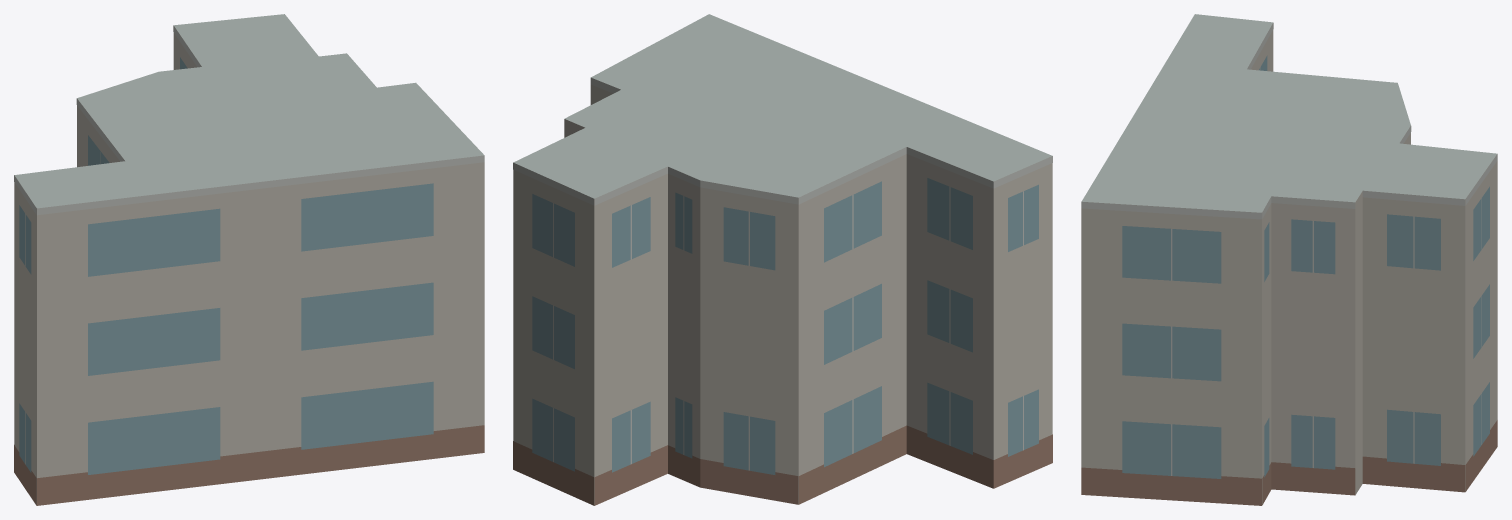
Rendered from survey-upis-32754201.glb.
3 renders of one model, left to right at view 1: azimuth 30°, elevation 25°; view 2: azimuth 150°, elevation 25°; view 3: azimuth 270°, elevation 25°, orthographic. The views are drawn at different scales.
Parts seen in each view (by area): view 1: survey-upis-32754201.tmp; view 2: survey-upis-32754201.tmp; view 3: survey-upis-32754201.tmp.
Boxes of the visible parts, x1=… form: survey-upis-32754201.tmp: x1=14, y1=14, x2=484, y2=505; survey-upis-32754201.tmp: x1=513, y1=14, x2=1052, y2=505; survey-upis-32754201.tmp: x1=1081, y1=14, x2=1497, y2=505.
Size of the model in its own units: 15.5 by 10.65 by 13.71.
